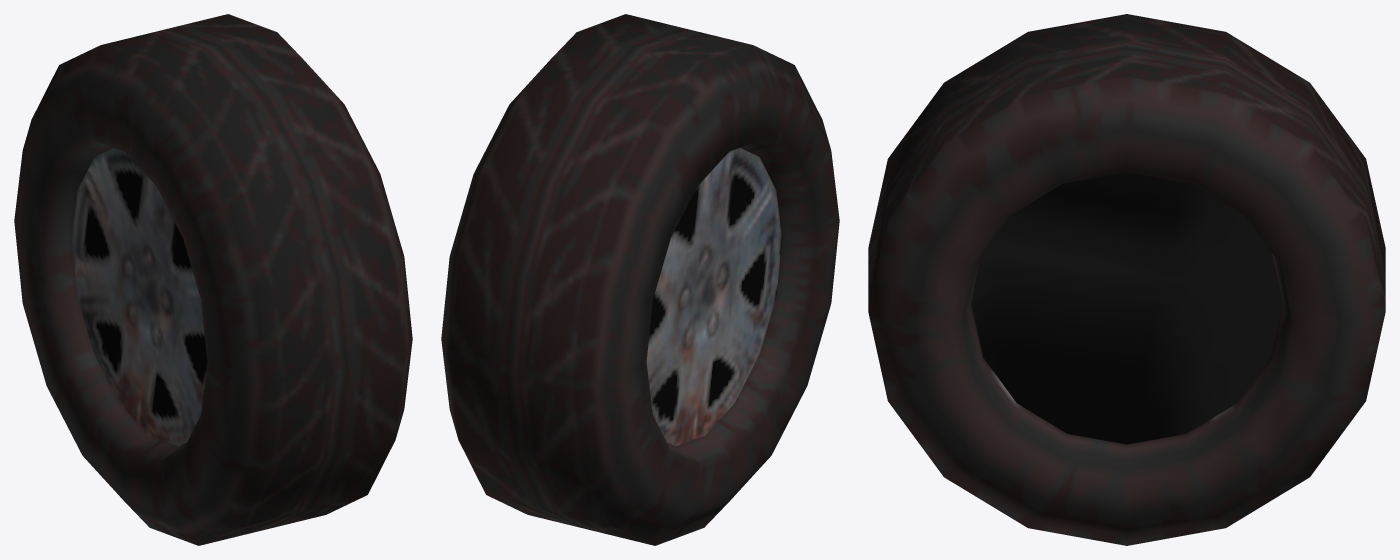
Rendered from WheelSmall.FBX.
3 views of the same model, side by side, from view 1: azimuth 30°, elevation 25°; view 2: azimuth 150°, elevation 25°; view 3: azimuth 270°, elevation 25° (orthographic).
Visible parts, largest first — view 1: Wheel_Small; view 2: Wheel_Small; view 3: Wheel_Small.
Boxes of the visible parts, x1=… form: Wheel_Small: x1=14, y1=14, x2=412, y2=545; Wheel_Small: x1=441, y1=14, x2=839, y2=545; Wheel_Small: x1=868, y1=14, x2=1385, y2=545.
Bounding box in the file's own units: 1.44 × 3.6 × 3.6.
Materials: 1 (1 with a texture image).
